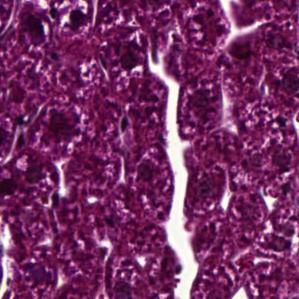inflammation: (225, 99, 289, 139), (53, 4, 98, 37)
